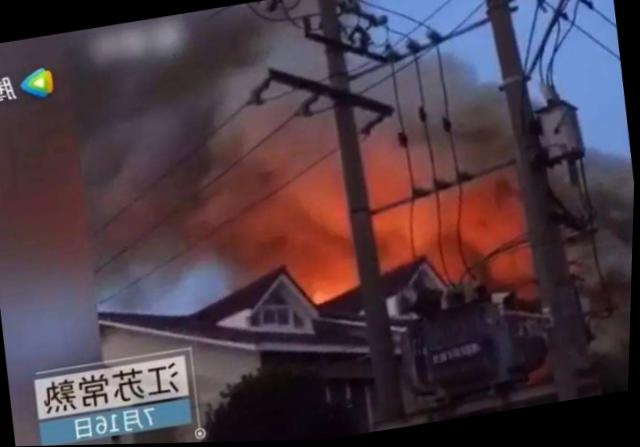fire: (275, 118, 540, 320)
